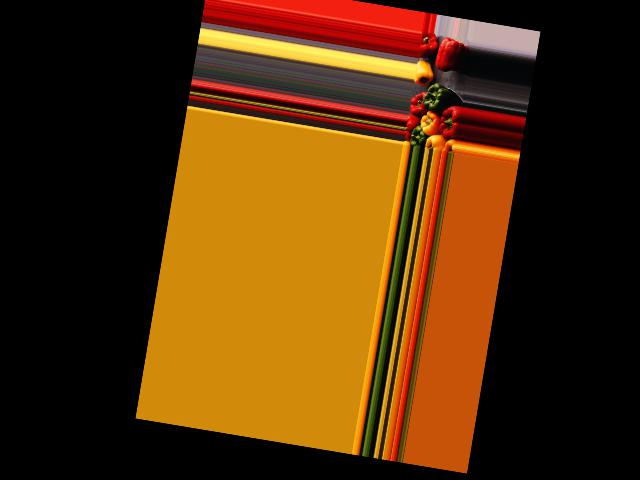bell_pepper: (419, 31, 439, 60)
